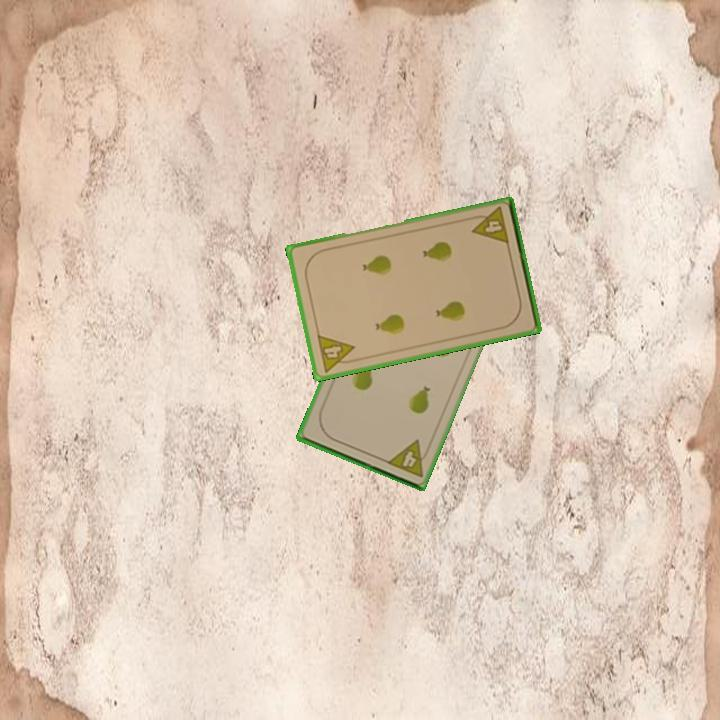4p: (383, 435, 434, 480), (313, 331, 360, 375), (467, 203, 512, 247)
